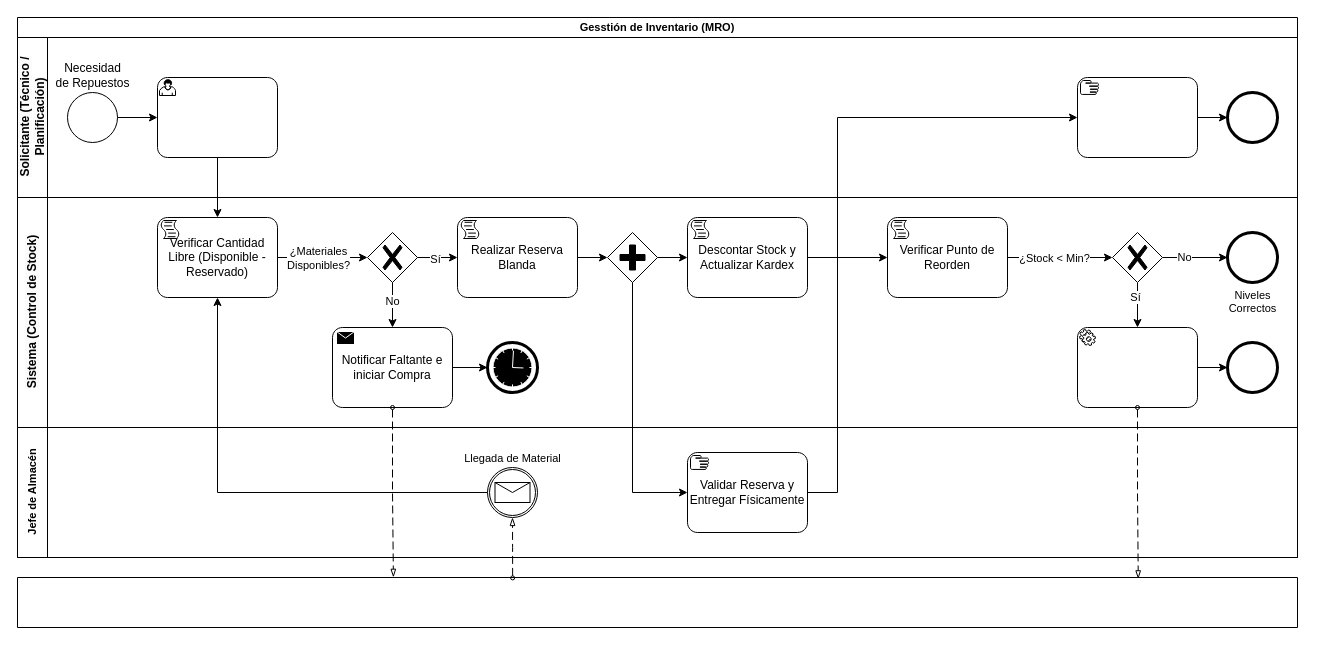
The diagram is 1318 pixels wide and 645 high, and some of its shapes have lost their labels. The centre of each missing label's shape, as x and y in pixels:
"Departamento de Compras / ERP" goes at (657,602).
"En espera de Material" goes at (512,367).
"Generar Solicitud de Compra Automática" goes at (1137,367).
"Recoger Repuesto Físico" goes at (1137,117).
"Repuesto en Poder del Técnico" goes at (1252,117).
"Solicitar Material (Manual o vía WO)" goes at (217,117).
"Solicitud Enviada" goes at (1252,367).
